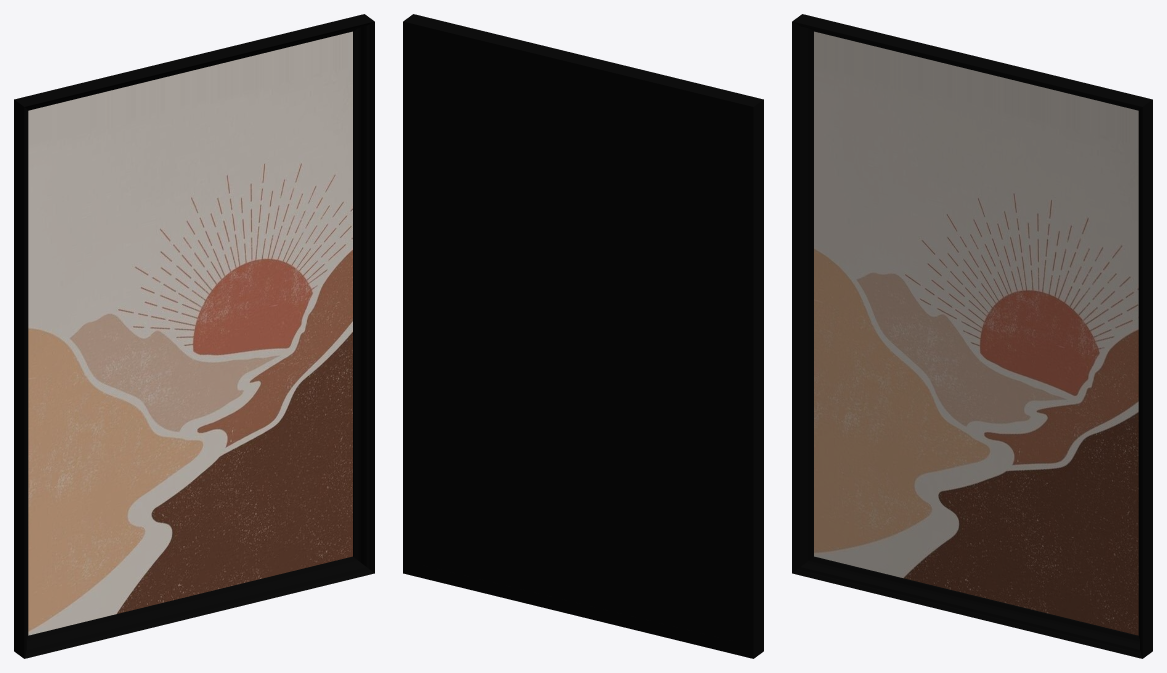
File: paintingModel1.glb
3 renders of one model, left to right at view 1: azimuth 30°, elevation 25°; view 2: azimuth 150°, elevation 25°; view 3: azimuth 330°, elevation 25°, orthographic.
Parts seen in each view (by area): view 1: NurbsPath.017, NurbsPath.015, NurbsPath.016; view 2: NurbsPath.016; view 3: NurbsPath.017, NurbsPath.015, NurbsPath.016.
Boxes of the visible parts, bbox=[...] form: NurbsPath.017: bbox=[28, 31, 352, 635]; NurbsPath.015: bbox=[24, 21, 374, 658]; NurbsPath.016: bbox=[14, 14, 374, 658]; NurbsPath.016: bbox=[403, 14, 763, 658]; NurbsPath.017: bbox=[814, 31, 1138, 635]; NurbsPath.015: bbox=[792, 21, 1142, 658]; NurbsPath.016: bbox=[792, 14, 1152, 658].
Size of the model in its own units: 0.0451 by 0.0679 by 0.0023.
3 materials, 1 textured.
